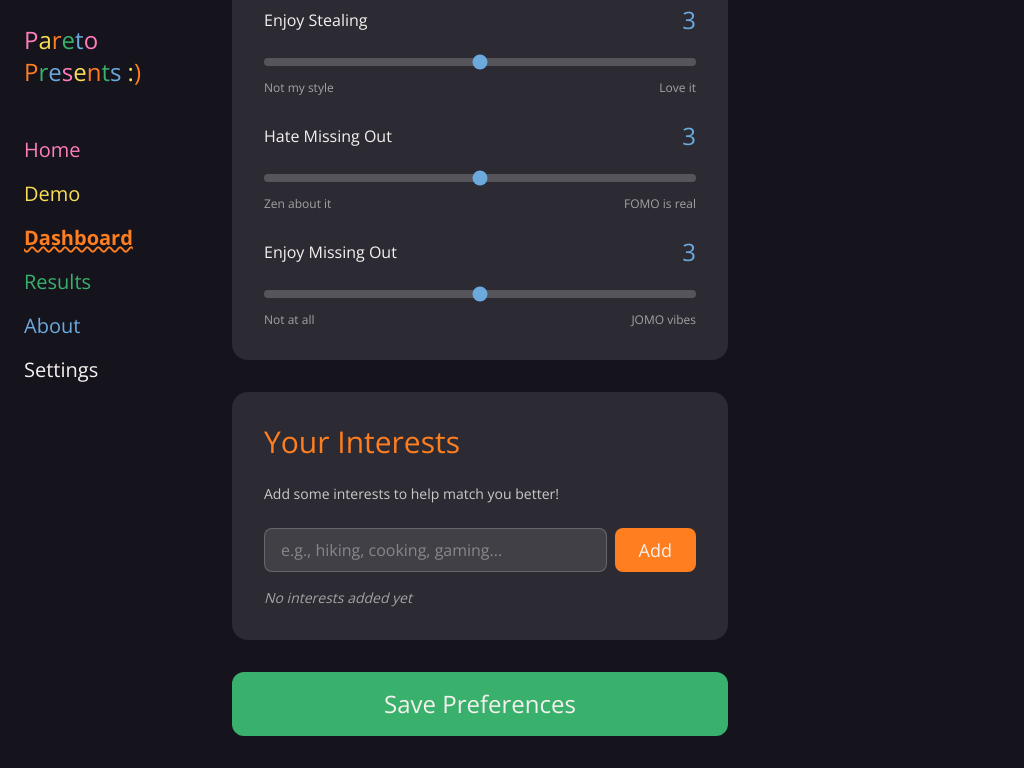
Test case: DashboardPage › Preference form interactions › allows removing interests
(page scrolled)
Expected: the heading "Your Interests" is shown, [264,421,460,462]
Note: Add an interest
Type "photography" into the field with placeholder "e.g., hiking, cooking, gaming..." at (435, 550), box [264,528,607,572]
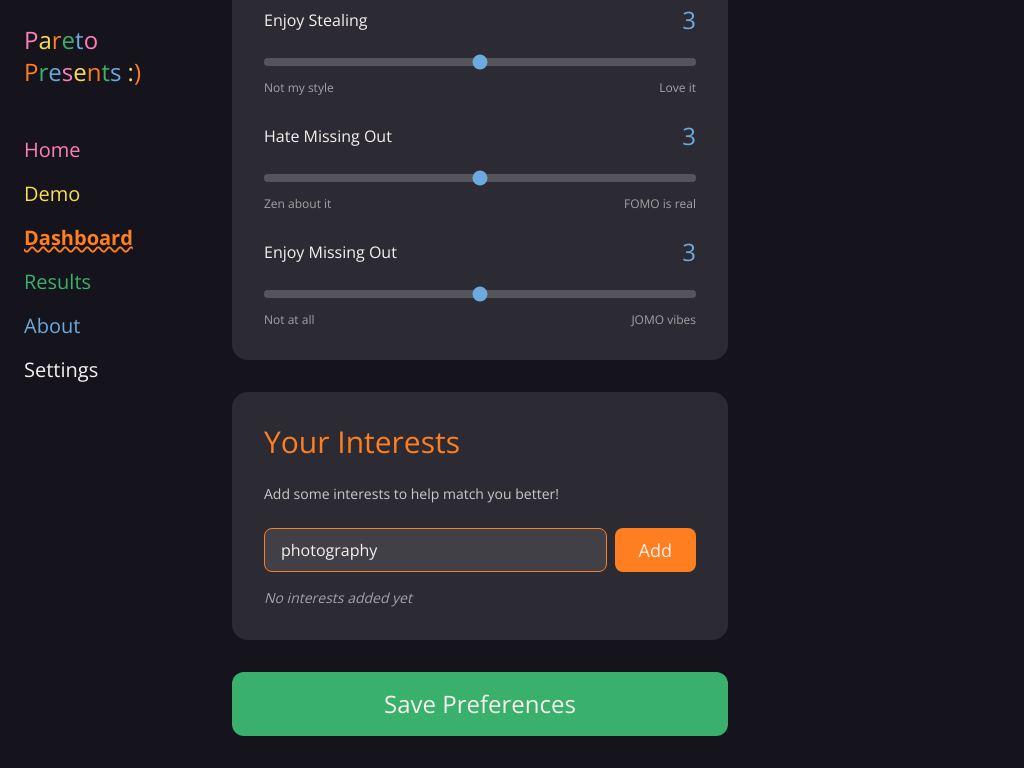
Click the button "Add" at (655, 550), box [615,528,696,572]
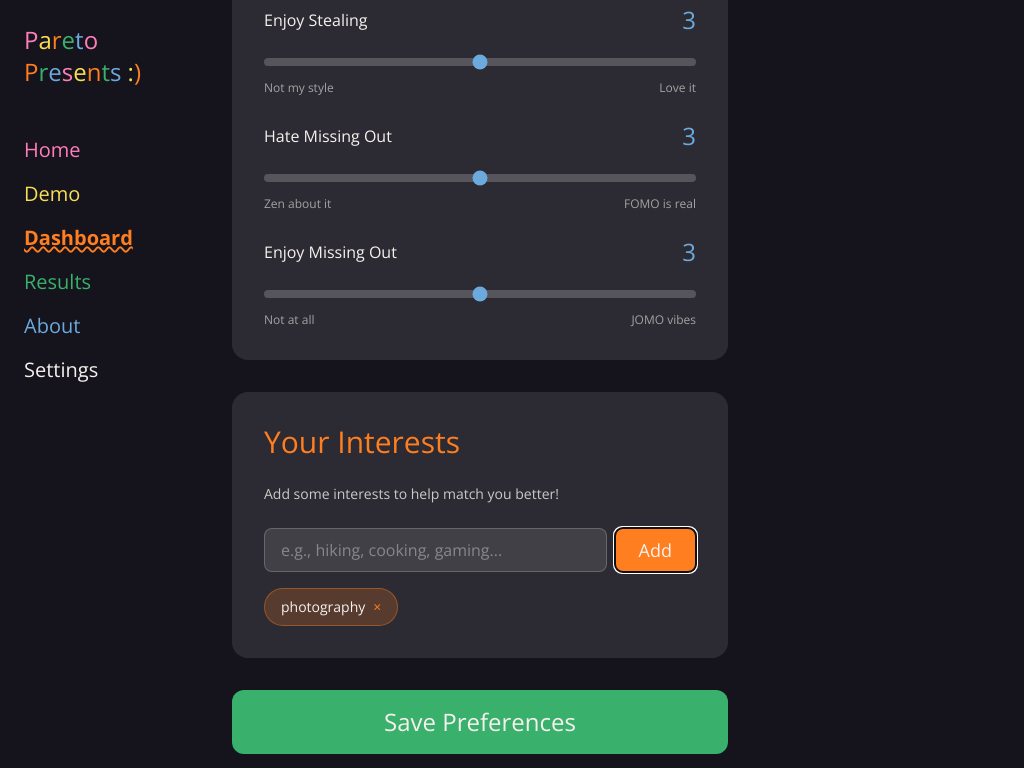
Result: the text "photography" is shown at [281,597,365,616]
Click the button "×" at (377, 607), box [373,597,381,617]
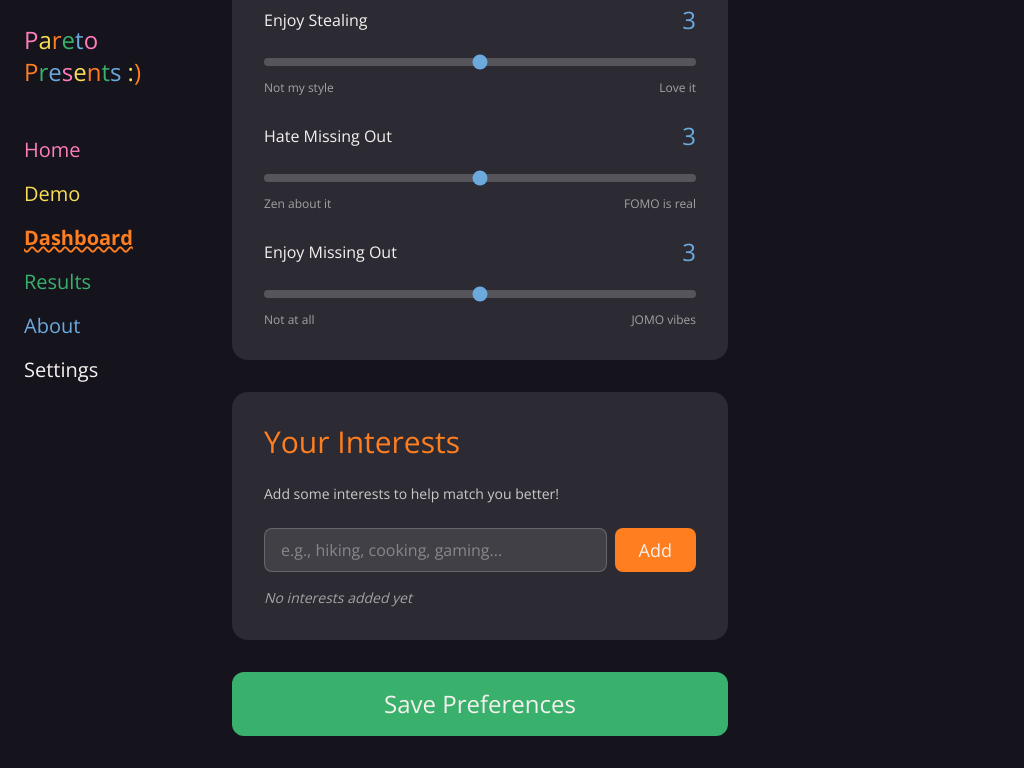
Result: the text "photography" is gone
